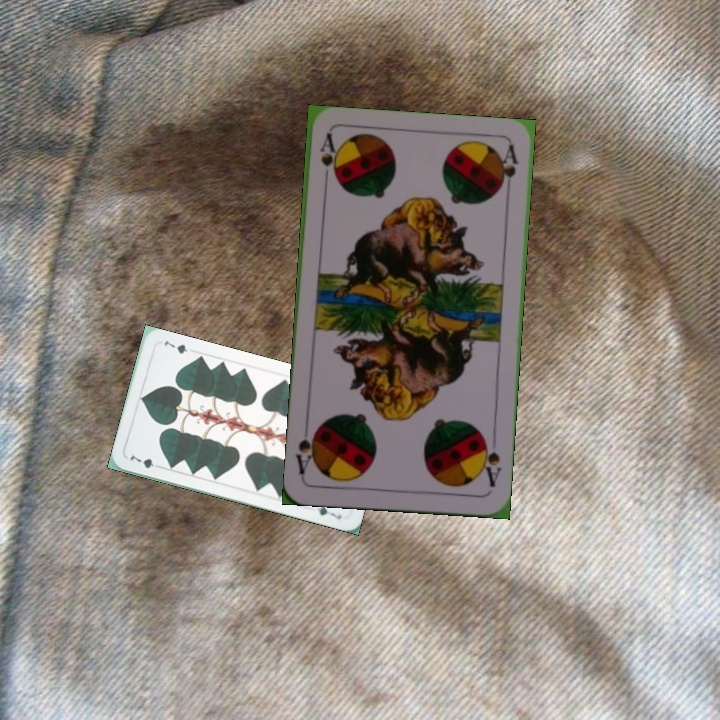G7: (126, 451, 165, 471)
SA: (477, 432, 503, 490), (316, 131, 339, 181)
